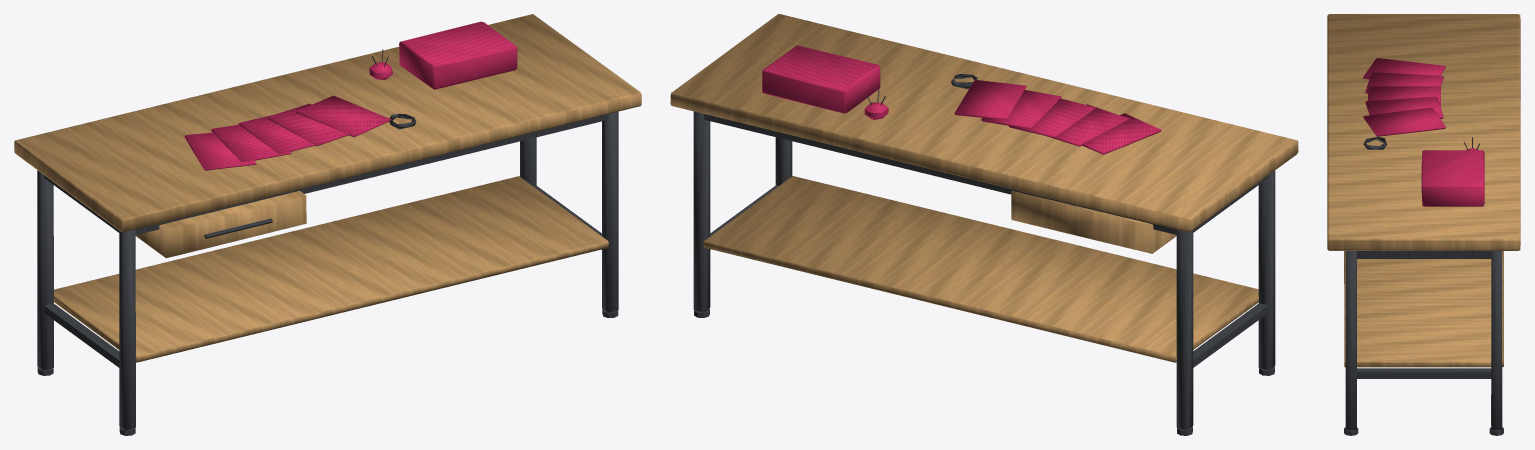
The model's file is bancada-22-leve.glb.
3 views of the same model, side by side, from view 1: azimuth 30°, elevation 25°; view 2: azimuth 150°, elevation 25°; view 3: azimuth 270°, elevation 25° (orthographic). The views are drawn at different scales.
Parts seen in each view (by area): view 1: tampo, prateleira, caixa-de-amostras, gaveta, pe, pe.002, pe.001, longarina, amostra.004, amostra, amostra.003, amostra.001 (+3 smaller); view 2: tampo, prateleira, caixa-de-amostras, gaveta, pe.001, pe.003, pe, longarina.001, amostra.004, amostra, amostra.003, amostra.002 (+3 smaller); view 3: tampo, prateleira, caixa-de-amostras, pe.003, pe.002, amostra.004, apoio-prateleira.001, travessa-lado.001, amostra, amostra.001, amostra.003, amostra.002 (+1 smaller).
Boxes of the visible parts, box(x1,y1,x2,y2) form: tampo: box(14, 14, 641, 232); prateleira: box(53, 176, 608, 362); caixa-de-amostras: box(399, 21, 517, 89); gaveta: box(135, 191, 306, 258); pe: box(119, 229, 135, 430); pe.002: box(602, 111, 618, 312); pe.001: box(37, 170, 53, 370); longarina: box(135, 114, 607, 234); amostra.004: box(296, 95, 391, 137); amostra: box(184, 132, 256, 170); amostra.003: box(267, 103, 348, 146); amostra.001: box(211, 124, 291, 161); tampo: box(670, 14, 1298, 232); prateleira: box(703, 176, 1258, 362); caixa-de-amostras: box(762, 45, 880, 113); gaveta: box(1011, 191, 1176, 253); pe.001: box(1176, 229, 1193, 430); pe.003: box(693, 111, 710, 312); pe: box(1258, 170, 1275, 370); longarina.001: box(704, 114, 1176, 234); amostra.004: box(954, 80, 1026, 119); amostra: box(1082, 113, 1161, 154); amostra.003: box(981, 90, 1061, 128); amostra.002: box(1008, 98, 1095, 138); tampo: box(1327, 14, 1520, 250); prateleira: box(1344, 251, 1503, 367); caixa-de-amostras: box(1421, 150, 1484, 206); pe.003: box(1491, 251, 1502, 430); pe.002: box(1345, 251, 1356, 430); amostra.004: box(1363, 107, 1445, 136); apoio-prateleira.001: box(1356, 368, 1491, 378); travessa-lado.001: box(1356, 251, 1491, 258); amostra: box(1363, 58, 1445, 79); amostra.001: box(1365, 72, 1443, 93); amostra.003: box(1365, 96, 1443, 118); amostra.002: box(1368, 86, 1440, 107).
Bounding box in the file's own units: 2.2 × 1.02 × 0.7959.
3 materials, 3 textured.
